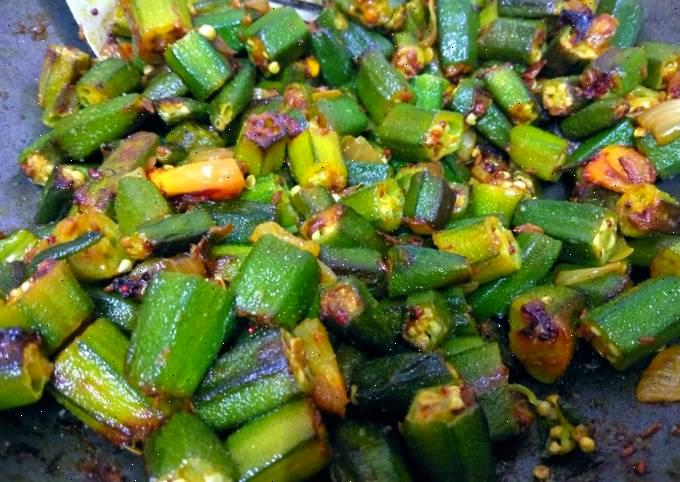bhindi: (20, 12, 680, 482)
